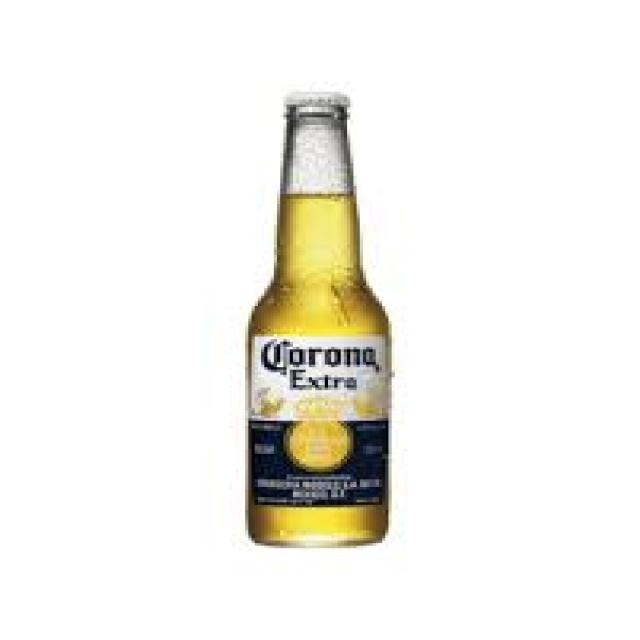glass: (245, 105, 389, 546)
metal: (280, 89, 347, 105)
